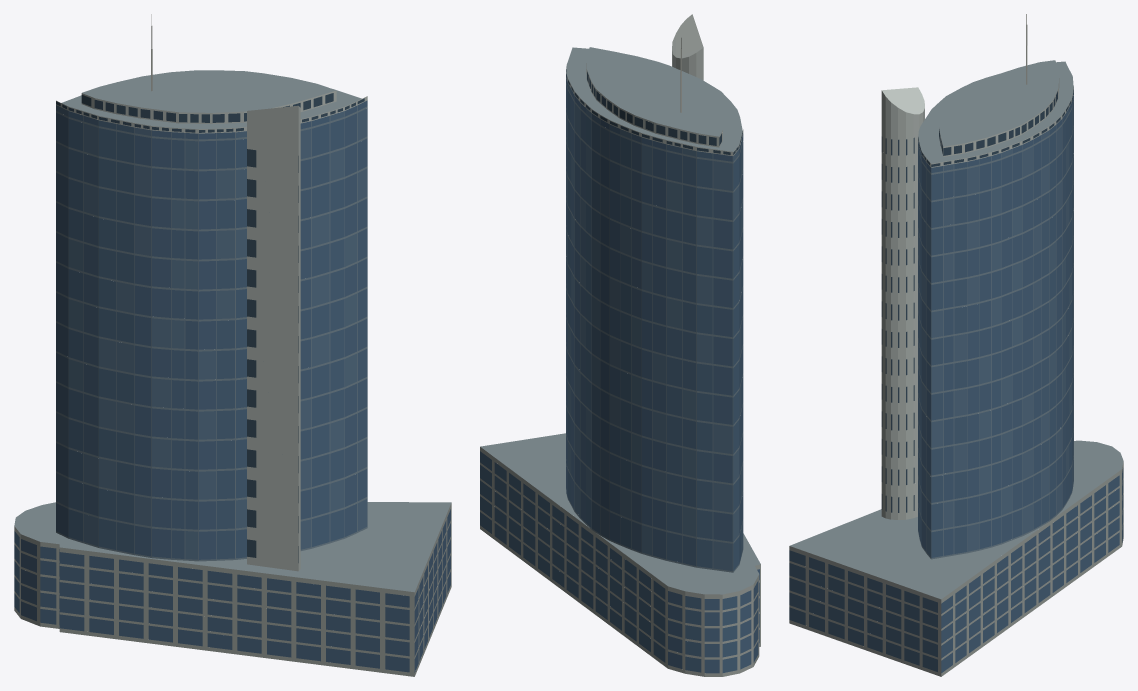
Rendered from parus-business-centre-far.glb.
3 renders of one model, left to right at view 1: azimuth 30°, elevation 25°; view 2: azimuth 150°, elevation 25°; view 3: azimuth 270°, elevation 25°, orthographic. The views are drawn at different scales.
Visible parts, largest first — view 1: parus-business-centre-0-glass, parus-business-centre-0-metal, parus-business-centre-0-glaze, parus-business-centre-0-roof, parus-business-centre-0-frame, parus-business-centre-0-podium, parus-business-centre-0-vent; view 2: parus-business-centre-0-glass, parus-business-centre-0-glaze, parus-business-centre-0-roof, parus-business-centre-0-frame, parus-business-centre-0-podium, parus-business-centre-0-metal, parus-business-centre-0-vent; view 3: parus-business-centre-0-glass, parus-business-centre-0-roof, parus-business-centre-0-metal, parus-business-centre-0-glaze, parus-business-centre-0-frame, parus-business-centre-0-podium, parus-business-centre-0-vent.
Part boxes in pixels (x1,y1,x2,y2): parus-business-centre-0-glass: (14, 101, 450, 672); parus-business-centre-0-metal: (56, 90, 367, 571); parus-business-centre-0-glaze: (56, 105, 367, 559); parus-business-centre-0-roof: (14, 70, 451, 592); parus-business-centre-0-frame: (56, 100, 367, 561); parus-business-centre-0-podium: (14, 503, 451, 676); parus-business-centre-0-vent: (56, 93, 364, 562); parus-business-centre-0-glass: (480, 73, 759, 673); parus-business-centre-0-glaze: (566, 83, 743, 570); parus-business-centre-0-roof: (480, 47, 760, 594); parus-business-centre-0-frame: (566, 79, 743, 572); parus-business-centre-0-podium: (480, 447, 760, 676); parus-business-centre-0-metal: (566, 14, 743, 155); parus-business-centre-0-vent: (566, 70, 742, 154); parus-business-centre-0-glass: (789, 93, 1123, 672); parus-business-centre-0-roof: (790, 60, 1123, 599); parus-business-centre-0-metal: (881, 78, 1073, 519); parus-business-centre-0-glaze: (918, 105, 1073, 557); parus-business-centre-0-frame: (918, 90, 1073, 559); parus-business-centre-0-podium: (789, 462, 1123, 676); parus-business-centre-0-vent: (881, 90, 1073, 512).
Size of the model in its own units: 96.72 by 156 by 85.96.
